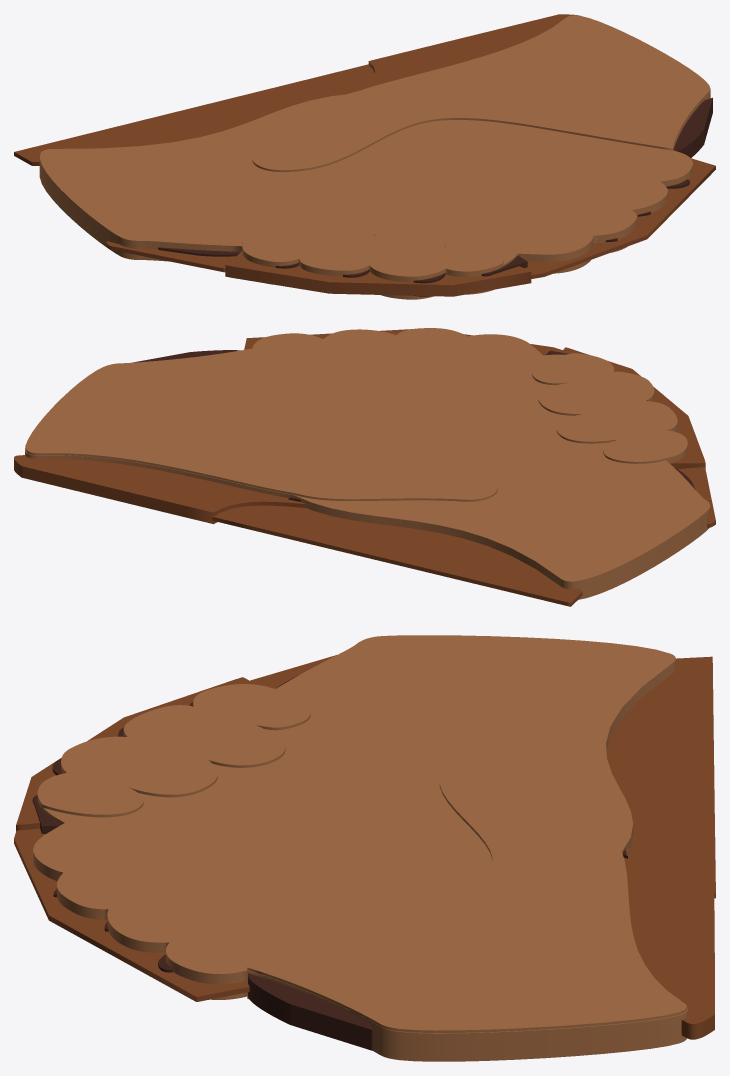
The model's file is emoji_u1f91d_1f3fe.glb.
The picture shows the model from 3 angles, top to bottom: view 1: azimuth 30°, elevation 25°; view 2: azimuth 150°, elevation 25°; view 3: azimuth 270°, elevation 25°; orthographic projection. The views are drawn at different scales.
Visible parts, largest first — view 1: emoji_u1f91d_1f3fe; view 2: emoji_u1f91d_1f3fe; view 3: emoji_u1f91d_1f3fe.
Part boxes in pixels (x1,y1,x2,y2): emoji_u1f91d_1f3fe: (14,14,715,299); emoji_u1f91d_1f3fe: (14,328,715,606); emoji_u1f91d_1f3fe: (14,635,715,1061).
Size of the model in its own units: 0.0332 by 0.0012 by 0.0244.
